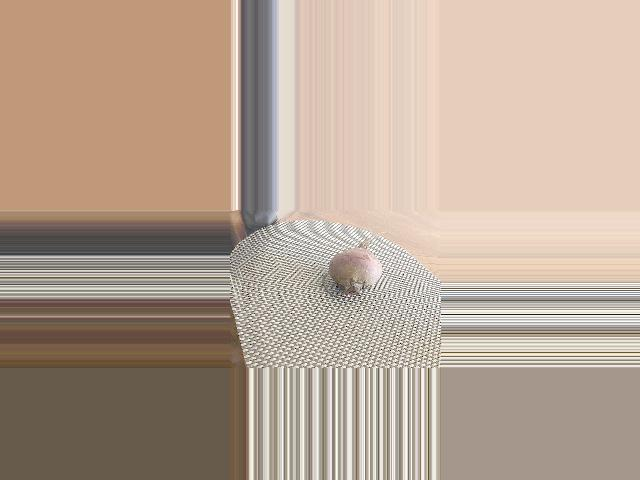beet: (321, 232, 390, 297)
